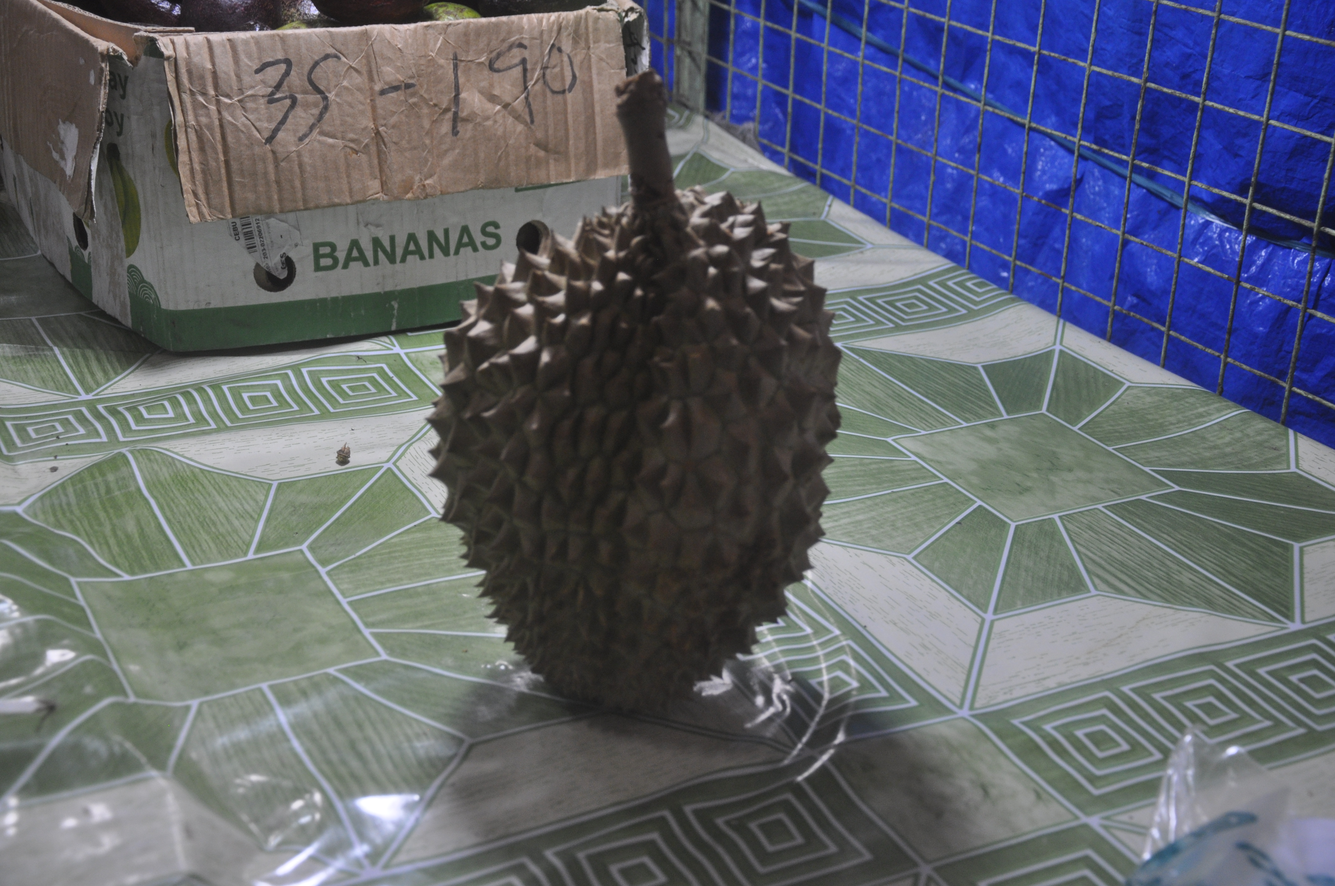mature: (429, 71, 840, 707)
